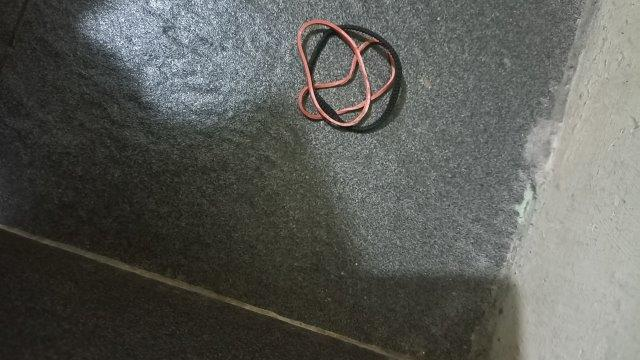karet: (297, 19, 403, 133)
